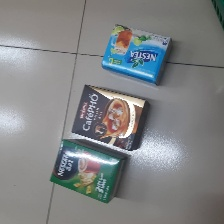CF pho: (70, 83, 148, 151)
Nes Rang: (50, 137, 128, 204)
Nestea: (100, 23, 173, 84)
